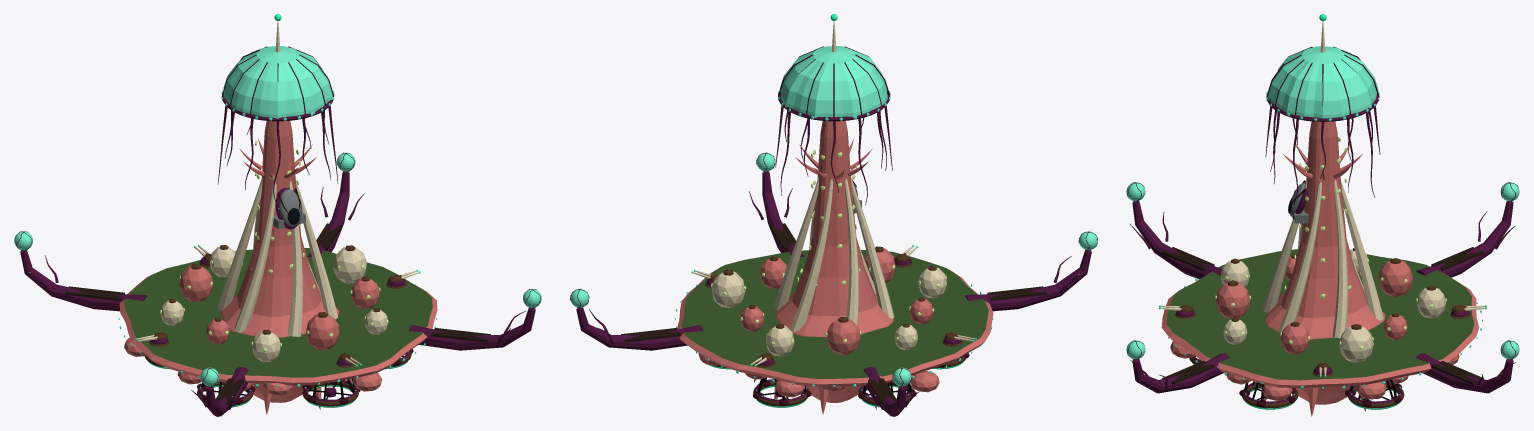
The model's file is station_command.obj.
The picture shows the model from 3 angles, left to right: view 1: azimuth 30°, elevation 25°; view 2: azimuth 150°, elevation 25°; view 3: azimuth 270°, elevation 25°; orthographic projection.
Parts seen in each view (by area): view 1: station_command; view 2: station_command; view 3: station_command.
Boxes of the visible parts, x1=… form: station_command: x1=14, y1=14, x2=541, y2=416; station_command: x1=570, y1=14, x2=1097, y2=416; station_command: x1=1126, y1=14, x2=1519, y2=416.
Bounding box in the file's own units: 1500 × 1609 × 1499.
1 material, 1 textured.
